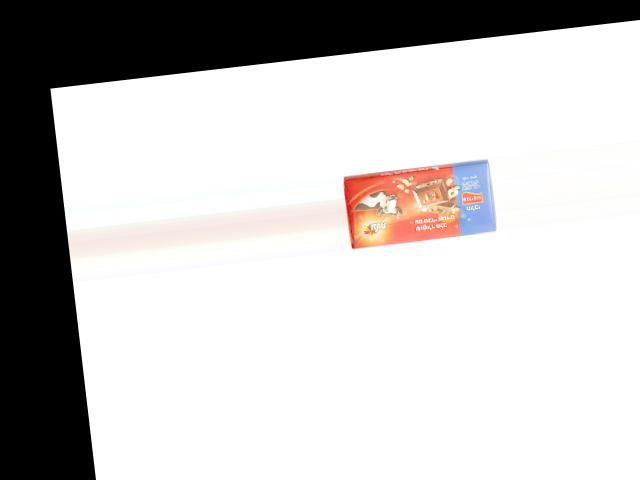chocolate: (342, 153, 495, 248)
